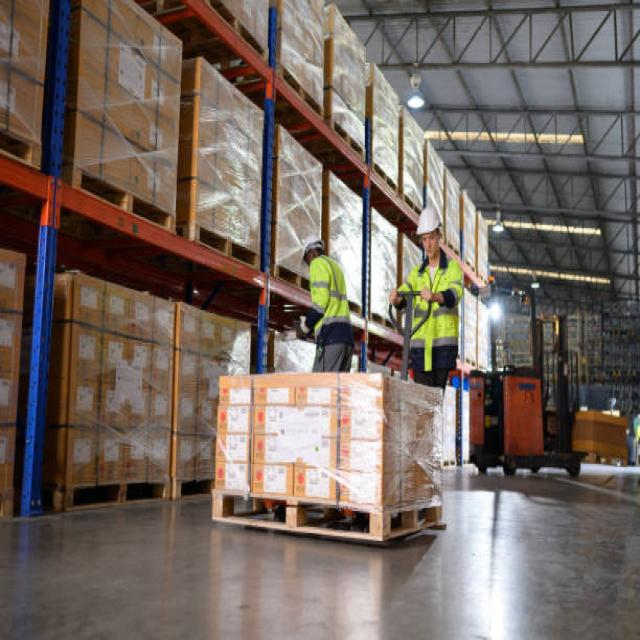Wooden-Pallets: (205, 480, 443, 549), (72, 162, 179, 233), (43, 467, 171, 519), (186, 216, 262, 277), (275, 59, 330, 123)
